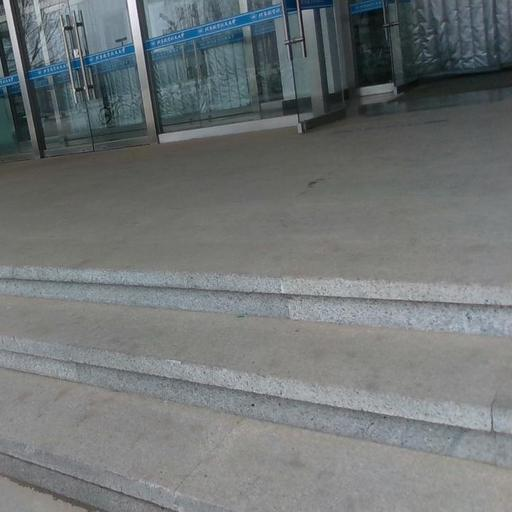stairs: (0, 267, 511, 511)
